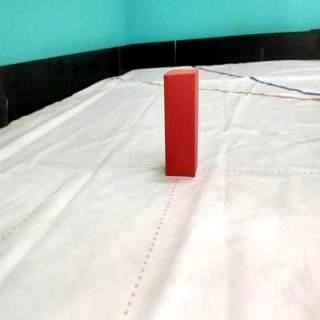redbox: (163, 70, 198, 178)
